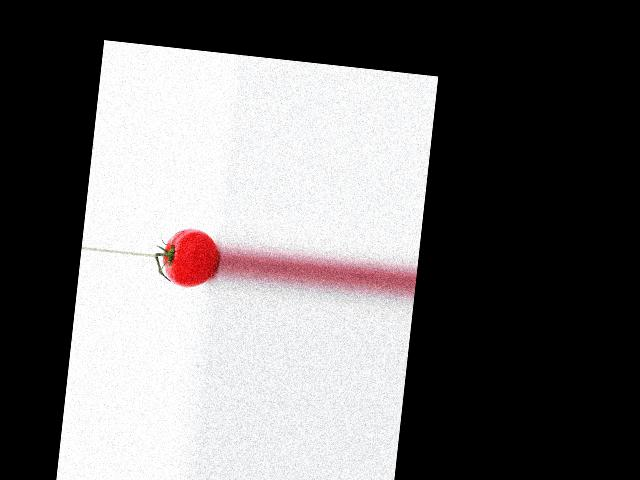tomato: (160, 224, 221, 289)
